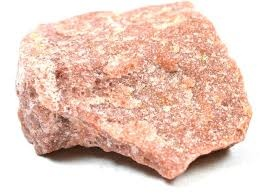obstacle: (16, 2, 251, 178)
